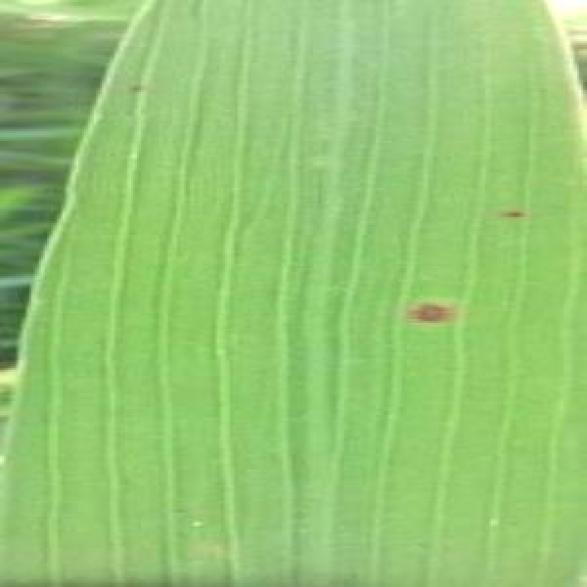Brown_Spot: (397, 288, 460, 332), (489, 200, 534, 221), (121, 74, 151, 98)
